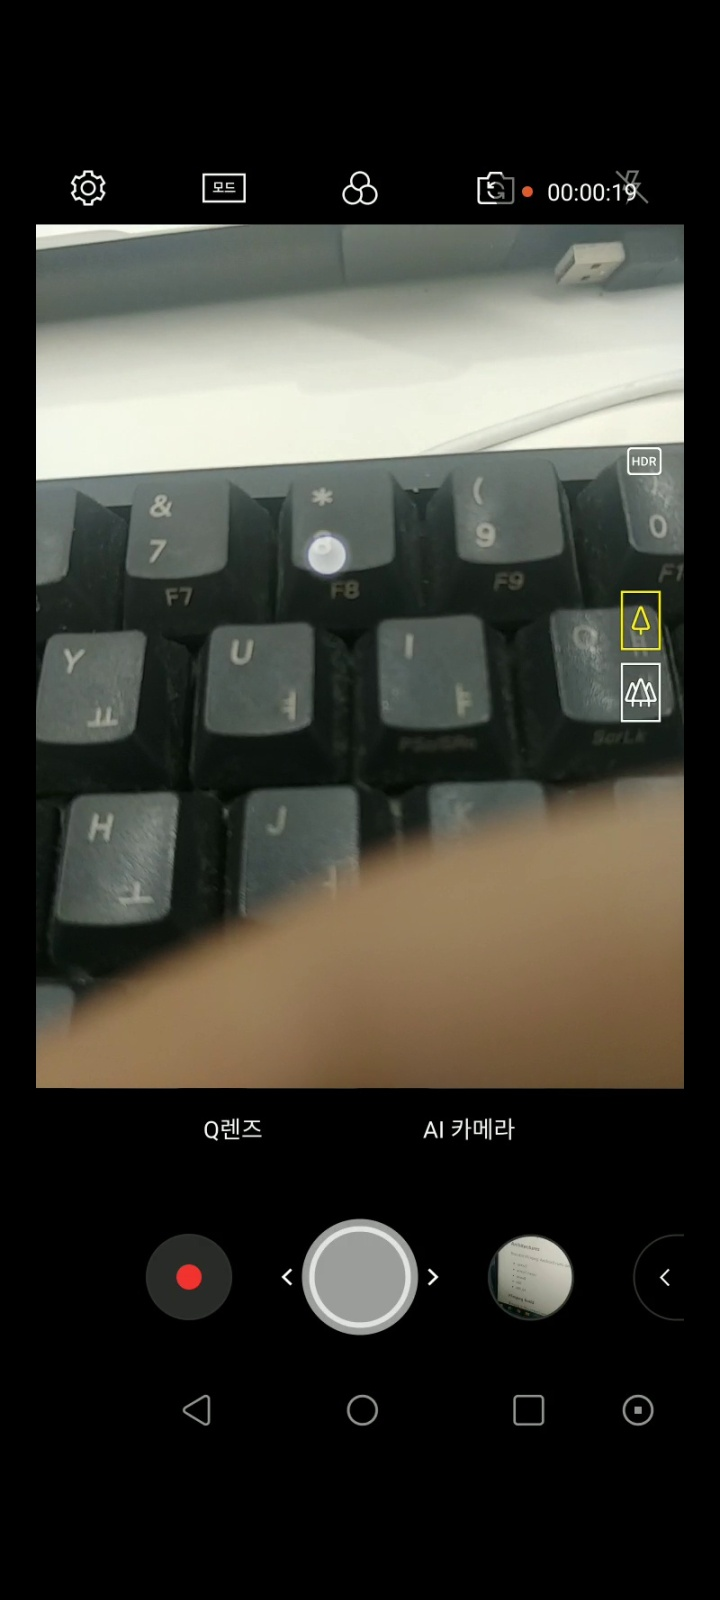Cursor: (305, 534, 350, 579)
